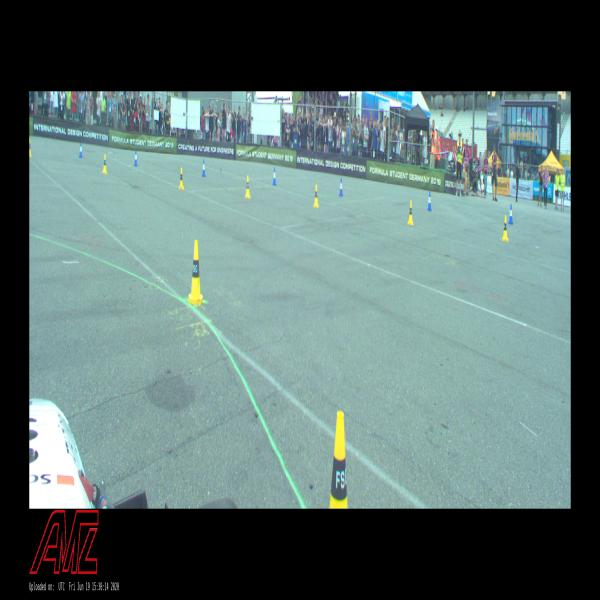blue_cone: (508, 204, 513, 224), (427, 191, 432, 211), (339, 178, 343, 196), (202, 159, 206, 177), (272, 168, 276, 185), (134, 150, 138, 166), (79, 143, 83, 158)
yellow_cone: (330, 412, 348, 508), (186, 240, 206, 306), (502, 215, 509, 241), (408, 200, 414, 225), (245, 176, 251, 198), (178, 168, 184, 189), (102, 154, 108, 173), (314, 184, 318, 207), (29, 138, 32, 156)
